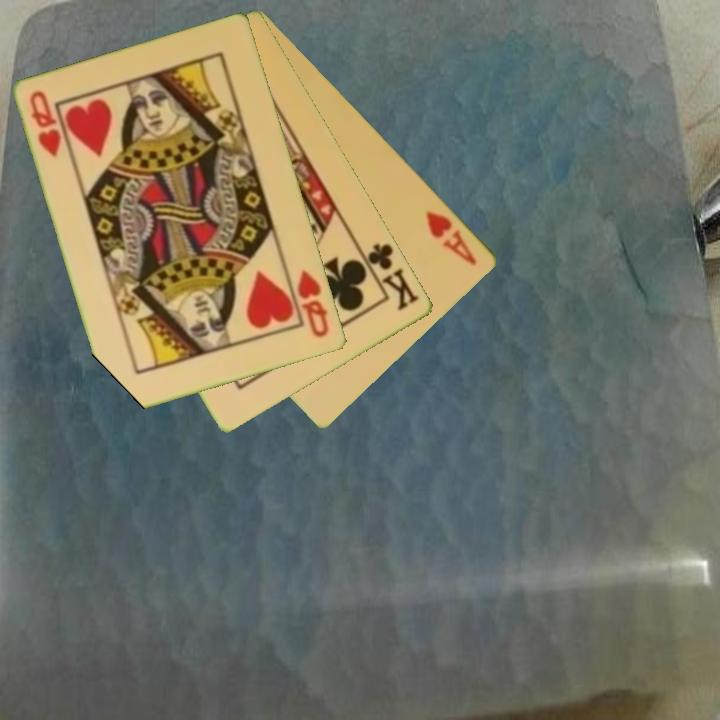Ah: (422, 207, 480, 269)
Kc: (357, 240, 422, 314)
Qh: (294, 266, 333, 341), (26, 87, 65, 161)
